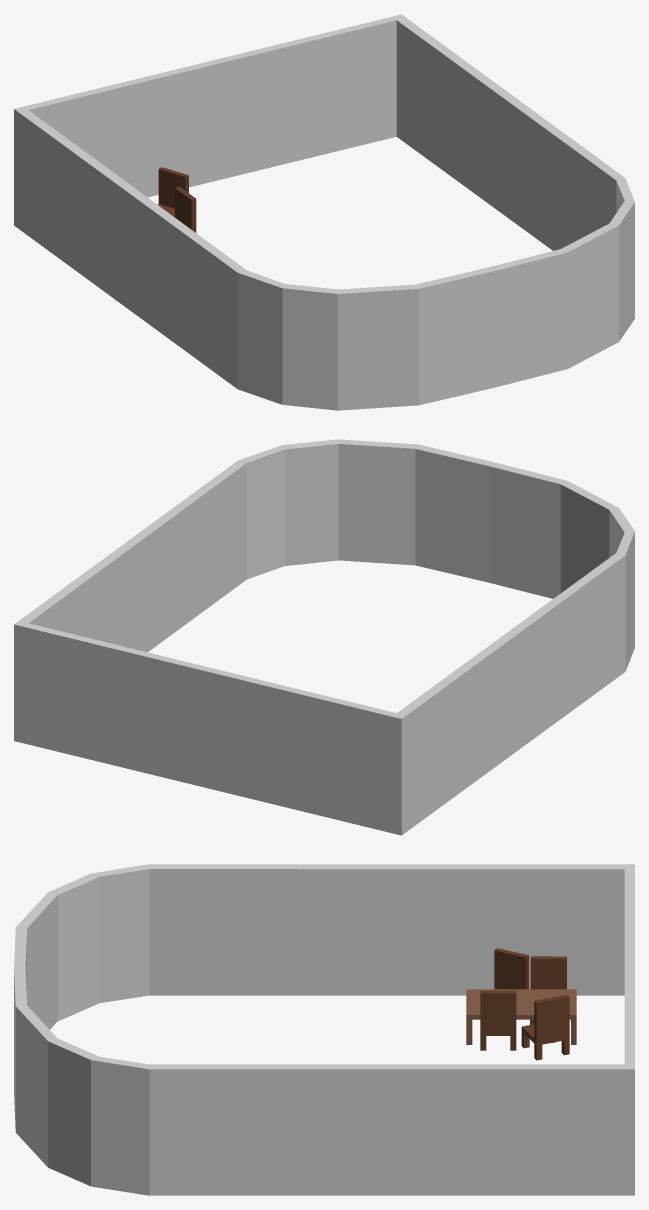
Rendered from home.glb.
3 views of the same model, one above another, from view 1: azimuth 30°, elevation 25°; view 2: azimuth 150°, elevation 25°; view 3: azimuth 270°, elevation 25° (orthographic). The views are drawn at different scales.
Visible parts, largest first — view 1: Cube, Cube.003, Cube.002; view 2: Cube; view 3: Cube, Cube.003, Cube.001, Cube.002, Cube.004, Cube.005.
Boxes of the visible parts, bbox=[...] form: Cube: bbox=[14, 14, 634, 410]; Cube.003: bbox=[157, 167, 188, 217]; Cube.002: bbox=[175, 186, 196, 232]; Cube: bbox=[14, 439, 634, 835]; Cube: bbox=[14, 864, 634, 1195]; Cube.003: bbox=[521, 994, 569, 1060]; Cube.001: bbox=[466, 989, 576, 1044]; Cube.002: bbox=[480, 990, 516, 1050]; Cube.004: bbox=[493, 948, 528, 989]; Cube.005: bbox=[530, 956, 566, 1024].
Bounding box in the file's own units: 16.01 × 4.65 × 20.47.
